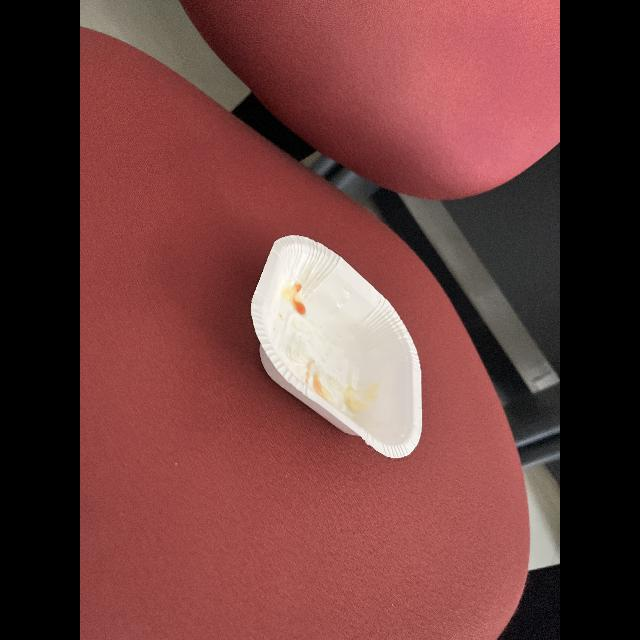cardboard_bowl: (234, 227, 446, 463)
